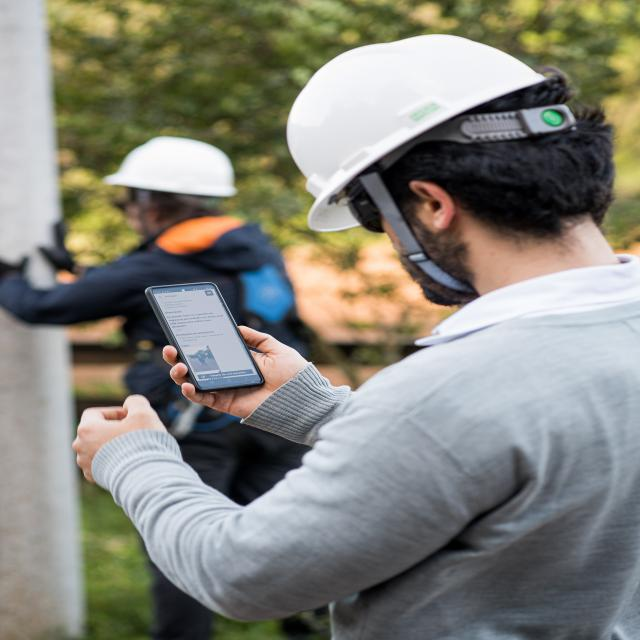capacete: (279, 31, 553, 234), (100, 133, 239, 200)
luva: (33, 219, 77, 277)
